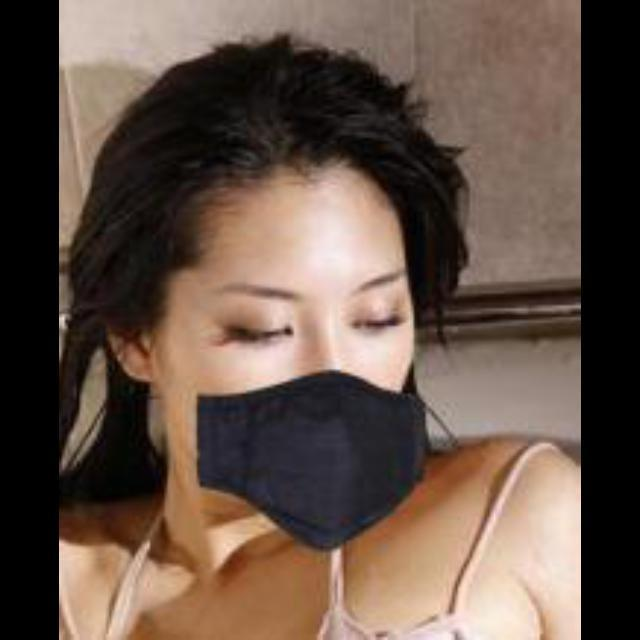suspicion: (143, 111, 457, 539)
